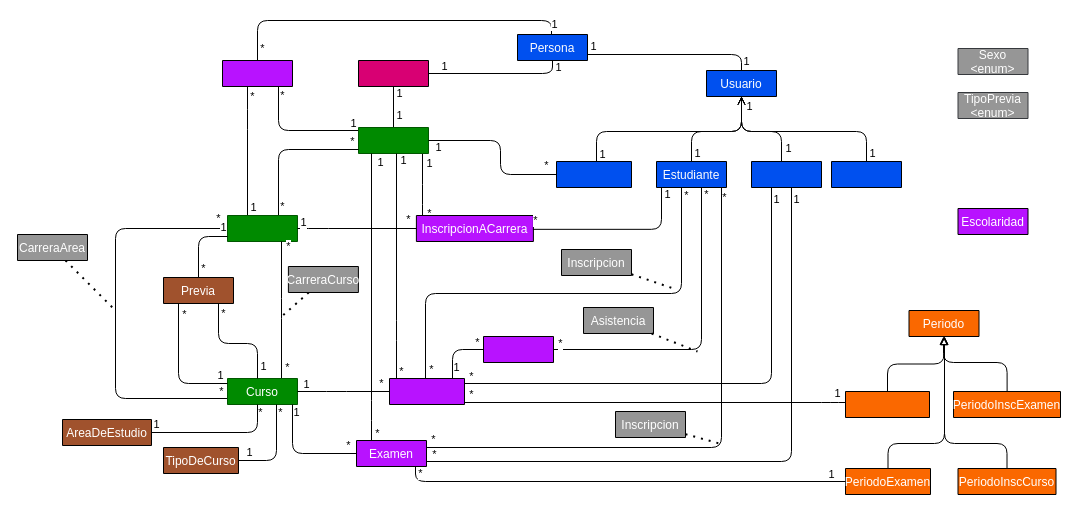
Image size: 1078x512. Some labels were removed from this diagram. The centre of each missing label's shape, as x and y in pixels:
Admin: point (866, 174)
Administrativo: point (594, 174)
Carrera: point (262, 228)
ClaseDictada: point (518, 349)
Direccion: point (393, 73)
Docente: point (786, 174)
EdicionCurso: point (426, 391)
PeriodoLectivo: point (887, 404)
Postulacion: point (257, 73)
Sede: point (393, 140)
